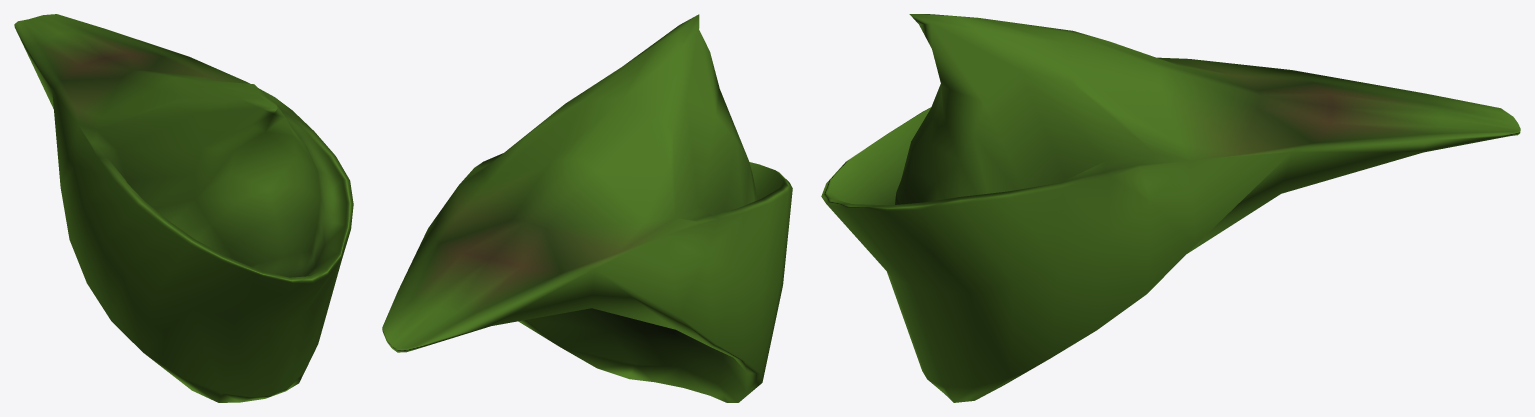
File: guyHat.fbx
3 views of the same model, side by side, from view 1: azimuth 30°, elevation 25°; view 2: azimuth 150°, elevation 25°; view 3: azimuth 270°, elevation 25° (orthographic). The views are drawn at different scales.
Visible parts, largest first — view 1: guyHat; view 2: guyHat; view 3: guyHat.
Boxes of the visible parts, left/top/right/bottom form: guyHat: left=14, top=14, right=353, bottom=402; guyHat: left=382, top=14, right=792, bottom=402; guyHat: left=821, top=14, right=1520, bottom=402.
Bounding box in the file's own units: 29.98 × 37.77 × 65.16.
